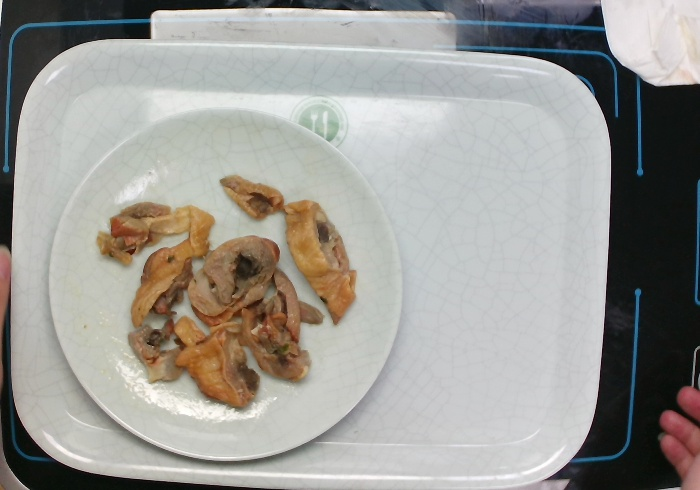JYsf-Da_Yuan_Pan: (42, 98, 409, 465)
